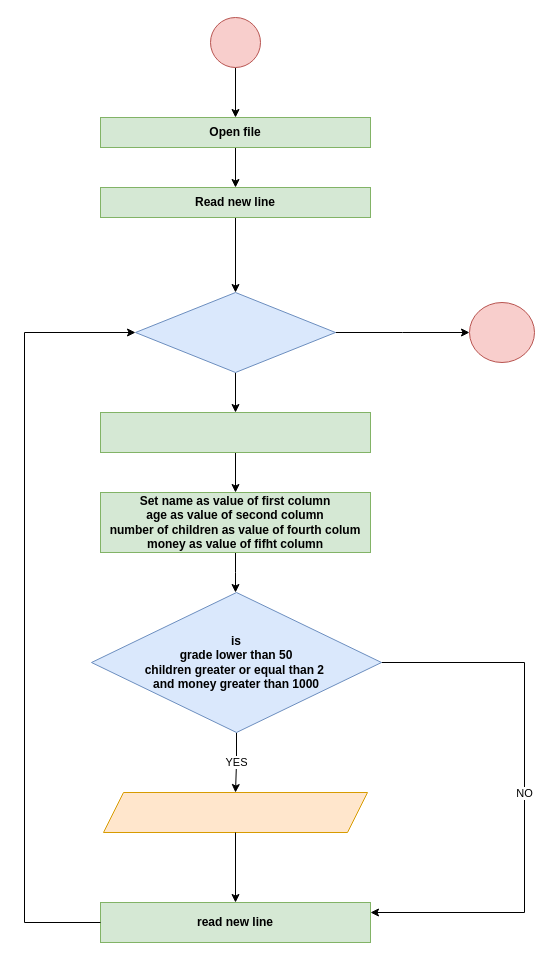
Image size: 552x960. Some labels were removed from this diagram. The shapes that lost their labels are listed below. From the top down, each one's centre as x and y in pixels, then its label:
At point 235,332: "While new line exists in file".
At point 235,432: "Split line into columns".
At point 235,812: "print name".
